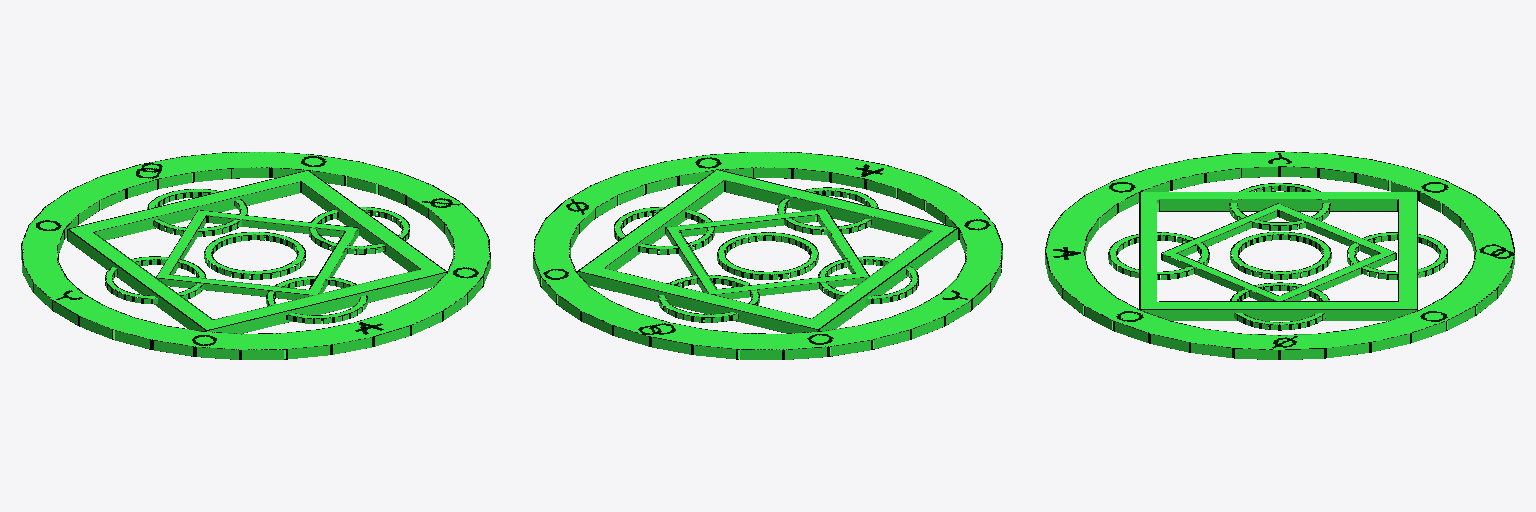
3 views of the same model, side by side, from view 1: azimuth 30°, elevation 25°; view 2: azimuth 150°, elevation 25°; view 3: azimuth 270°, elevation 25° (orthographic).
Visible parts, largest first — view 1: Warp_円柱.008; view 2: Warp_円柱.008; view 3: Warp_円柱.008.
Part boxes in pixels (bbox=[...]): Warp_円柱.008: bbox=[21, 152, 490, 359]; Warp_円柱.008: bbox=[533, 152, 1002, 359]; Warp_円柱.008: bbox=[1045, 151, 1514, 359].
Bounding box in the file's own units: 2 × 0.0535 × 2.
Materials: 1 (1 with a texture image).